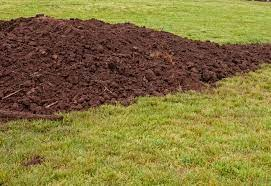dirt: (0, 16, 133, 118), (135, 26, 203, 94), (206, 39, 267, 79)
grass: (2, 106, 270, 182), (1, 0, 269, 18), (136, 87, 269, 105), (135, 21, 268, 38)
